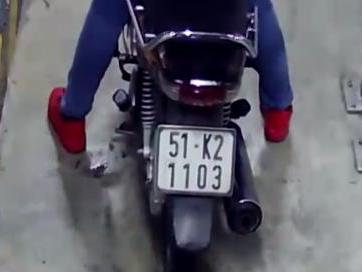num_plate: (154, 123, 235, 196)
